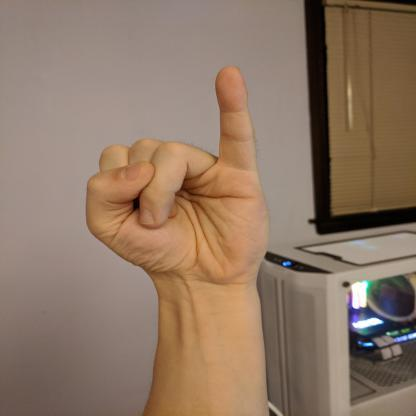I: (81, 60, 278, 294)
